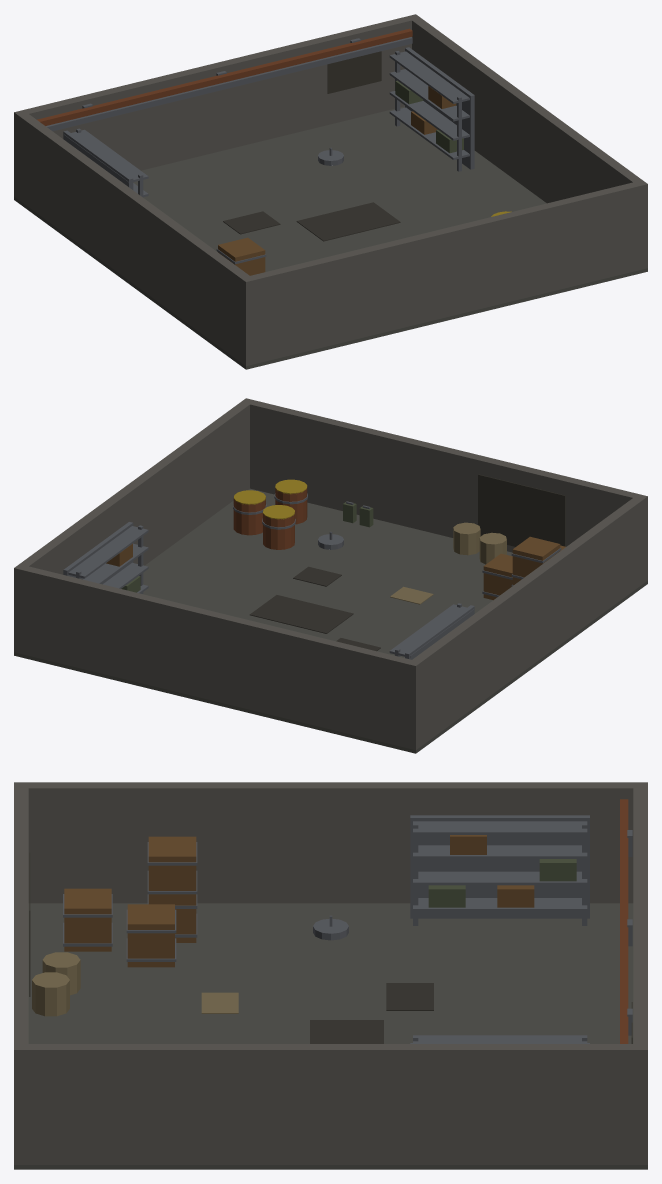
File: room_storage.glb
The picture shows the model from 3 angles, top to bottom: view 1: azimuth 30°, elevation 25°; view 2: azimuth 150°, elevation 25°; view 3: azimuth 270°, elevation 25°; orthographic projection. The views are drawn at different scales.
Visible parts, largest first — view 1: Floor, Wall_S_A, Wall_S_B, Wall_N_B, Wall_W_A, Wall_W_B, Wall_N_A, Plug_S, Plug_N, Wall_E_B, Wall_E_A, Plug_E (+18 smaller); view 2: Floor, Wall_N_A, Wall_N_B, Wall_S_B, Wall_W_A, Wall_W_B, Wall_E_A, Plug_N, Plug_S, Wall_S_A, NoCol_Grime_0, Plug_W (+21 smaller); view 3: Floor, Wall_E_A, Wall_E_B, Wall_W_A, Plug_W, Plug_E, Wall_W_B, RackBack_0, Wall_N_B, Wall_S_B, Wall_E_L, Wall_W_L (+24 smaller).
Boxes of the visible parts, x1=… form: Floor: x1=14, y1=106, x2=647, y2=369; Wall_S_A: x1=240, y1=240, x2=403, y2=366; Wall_S_B: x1=485, y1=180, x2=647, y2=306; Wall_N_B: x1=259, y1=14, x2=420, y2=140; Wall_W_A: x1=155, y1=213, x2=249, y2=361; Wall_W_B: x1=19, y1=114, x2=113, y2=262; Wall_N_A: x1=14, y1=74, x2=176, y2=199; Plug_S: x1=403, y1=233, x2=490, y2=327; Plug_N: x1=177, y1=80, x2=263, y2=161; Wall_E_B: x1=412, y1=18, x2=506, y2=166; Wall_E_A: x1=547, y1=117, x2=641, y2=202; Plug_E: x1=497, y1=93, x2=547, y2=203; Floor: x1=14, y1=488, x2=647, y2=753; Wall_N_A: x1=258, y1=624, x2=421, y2=750; Wall_N_B: x1=14, y1=564, x2=176, y2=690; Wall_S_B: x1=241, y1=398, x2=402, y2=524; Wall_W_A: x1=548, y1=498, x2=642, y2=646; Wall_W_B: x1=412, y1=597, x2=506, y2=745; Wall_E_A: x1=155, y1=402, x2=249, y2=550; Plug_N: x1=171, y1=617, x2=258, y2=711; Plug_S: x1=398, y1=451, x2=484, y2=537; Wall_S_A: x1=485, y1=458, x2=647, y2=583; NoCol_Grime_0: x1=478, y1=474, x2=565, y2=546; Plug_W: x1=506, y1=573, x2=556, y2=683; Floor: x1=14, y1=903, x2=647, y2=1169; Wall_E_A: x1=28, y1=1044, x2=262, y2=1164; Wall_E_B: x1=399, y1=1044, x2=633, y2=1164; Wall_W_A: x1=28, y1=782, x2=262, y2=903; Plug_W: x1=262, y1=802, x2=399, y2=903; Plug_E: x1=262, y1=1064, x2=399, y2=1164; Wall_W_B: x1=399, y1=782, x2=633, y2=903; RackBack_0: x1=410, y1=815, x2=589, y2=918; Wall_N_B: x1=633, y1=945, x2=647, y2=1164; Wall_S_B: x1=14, y1=945, x2=28, y2=1164; Wall_E_L: x1=262, y1=1044, x2=399, y2=1064; Wall_W_L: x1=262, y1=782, x2=399, y2=802.
Bounding box in the file's own units: 12 × 2.5 × 12.
